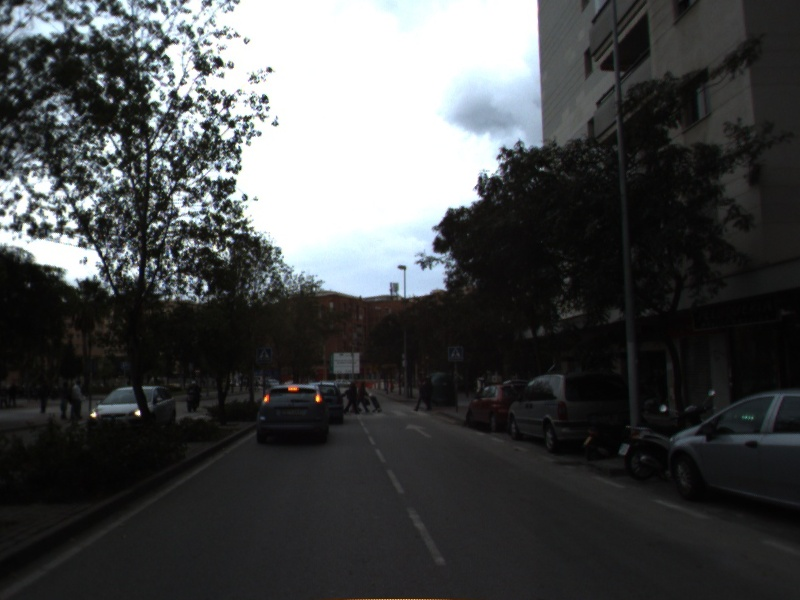STRAIGHT: (403, 421, 435, 440)
